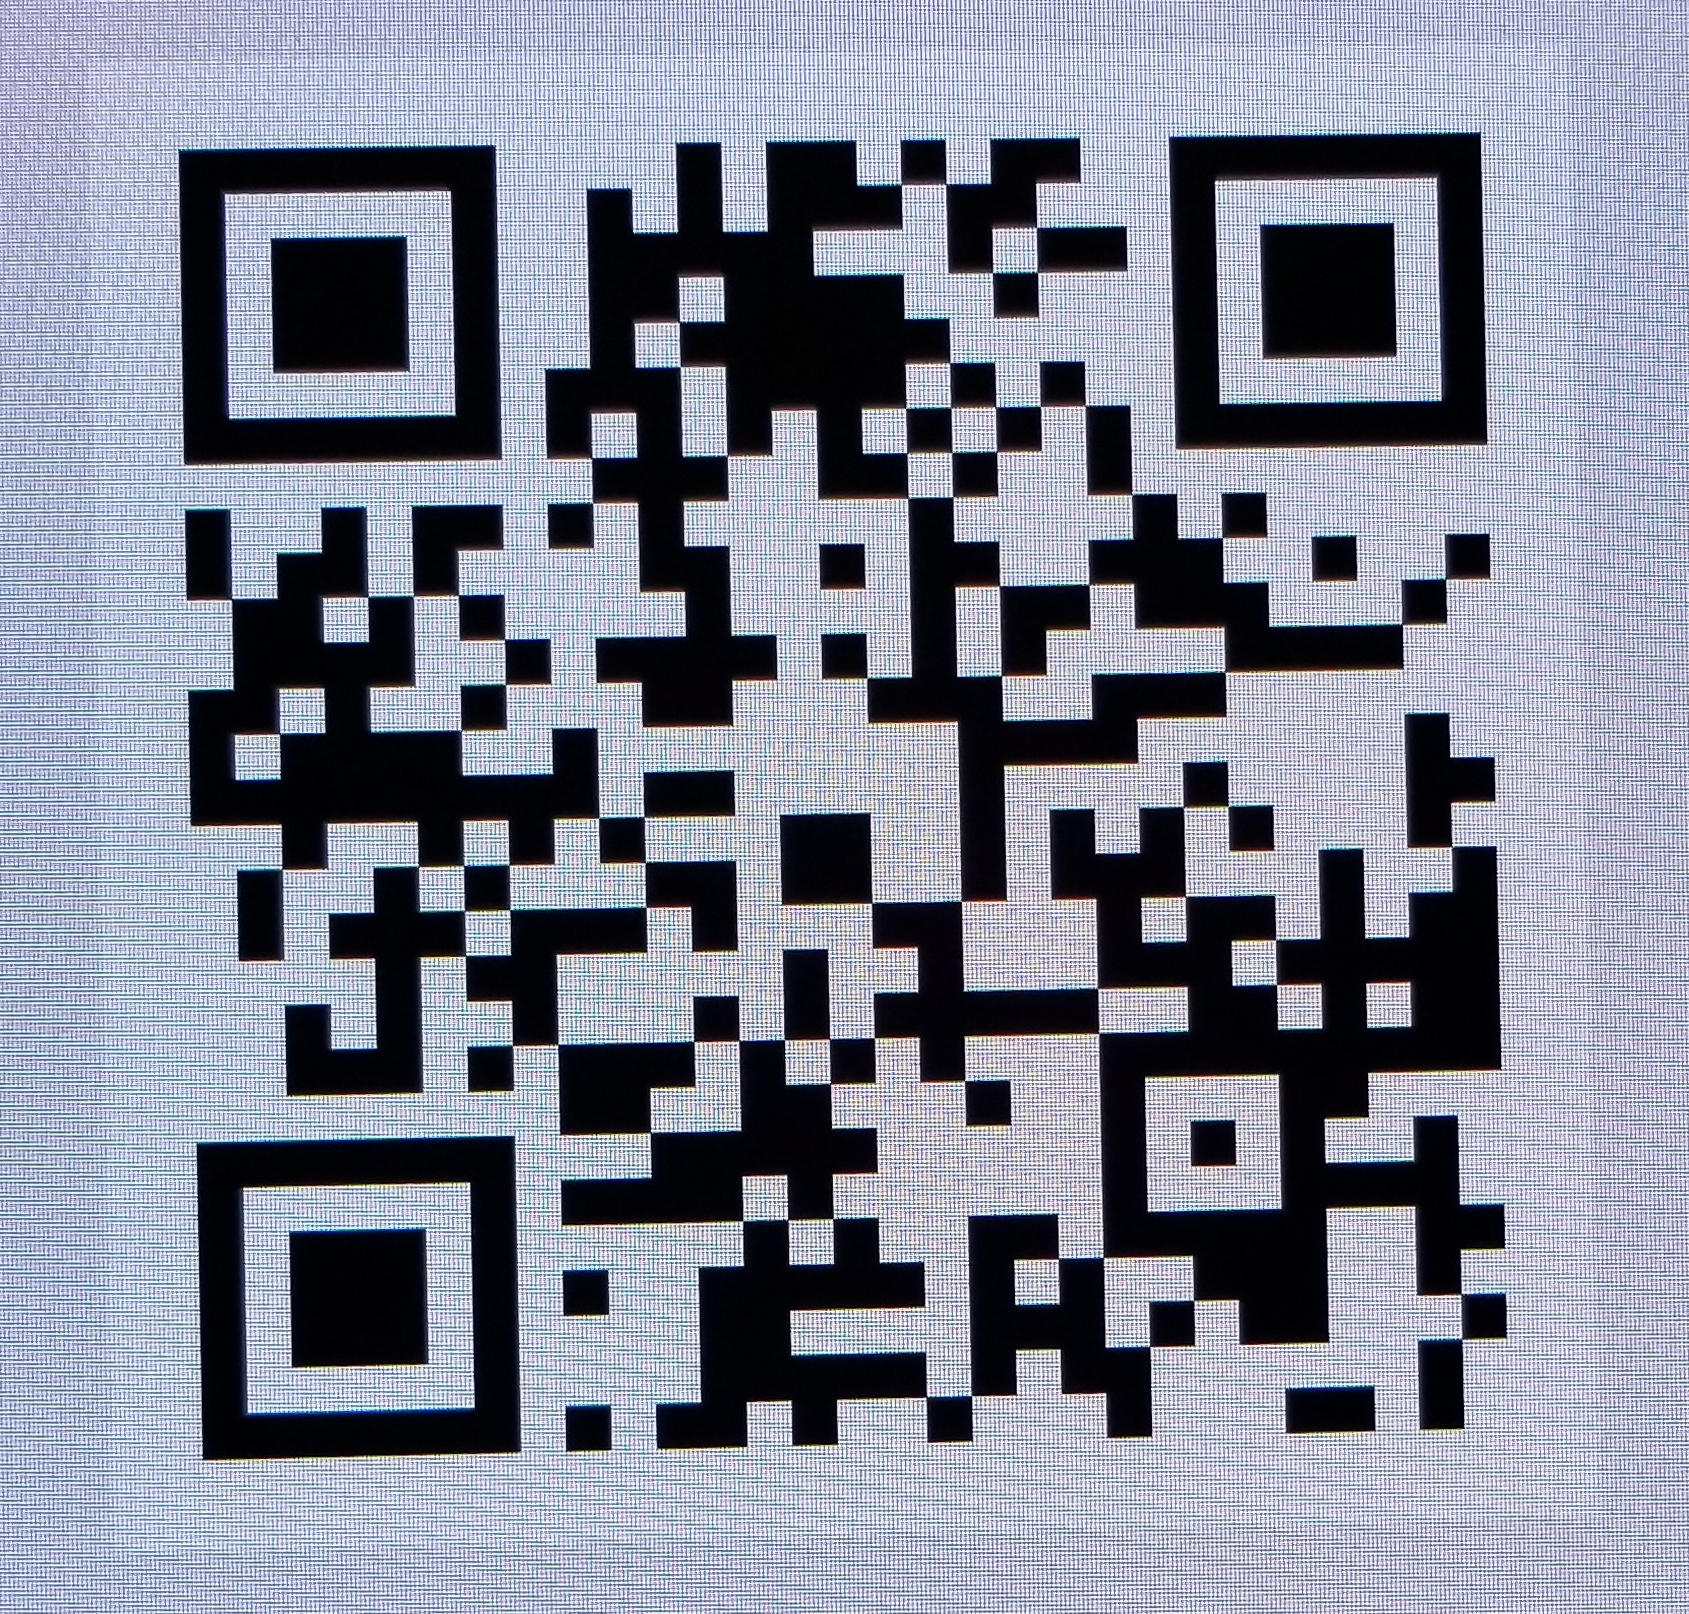QR_CODE: (119, 57, 1589, 1533)
